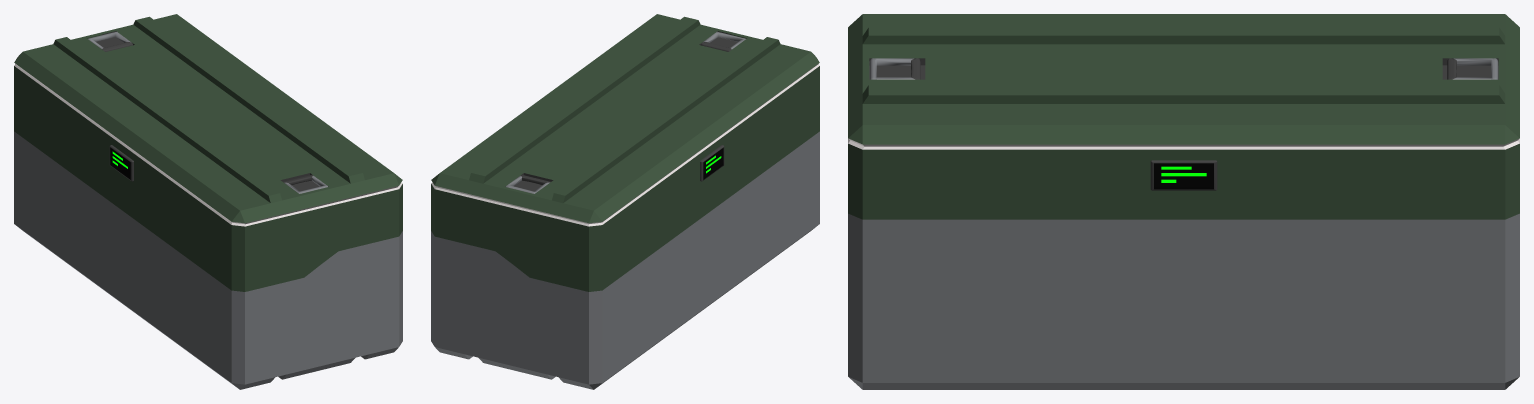
File: prop_crate_large.fbx
3 renders of one model, left to right at view 1: azimuth 30°, elevation 25°; view 2: azimuth 150°, elevation 25°; view 3: azimuth 270°, elevation 25°, orthographic. The views are drawn at different scales.
Parts seen in each view (by area): view 1: pasted__Crate, pasted__Handles, pasted__Screen; view 2: pasted__Crate, pasted__Handles, pasted__Screen; view 3: pasted__Crate, pasted__Screen, pasted__Handles.
Boxes of the visible parts, <box> form: pasted__Crate: <box>14,14,402,389</box>; pasted__Handles: <box>88,31,327,193</box>; pasted__Screen: <box>109,145,133,181</box>; pasted__Crate: <box>431,14,819,389</box>; pasted__Handles: <box>506,31,745,193</box>; pasted__Screen: <box>700,145,724,181</box>; pasted__Crate: <box>848,14,1519,389</box>; pasted__Screen: <box>1150,160,1217,190</box>; pasted__Handles: <box>869,58,1498,79</box>.
Size of the model in its own units: 0.7869 by 0.7956 by 1.77.
